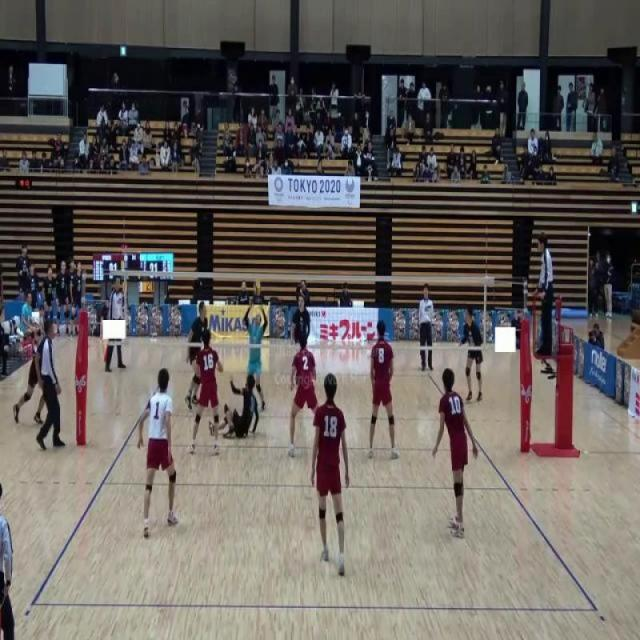volleyball: (253, 279, 261, 296)
